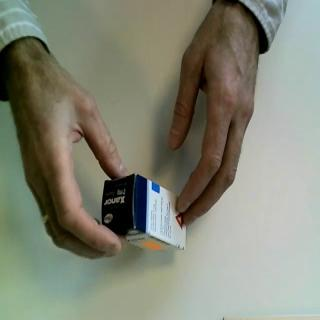xanor2mg: (99, 171, 191, 257)
